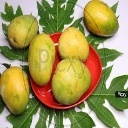mango: (29, 34, 55, 87)
